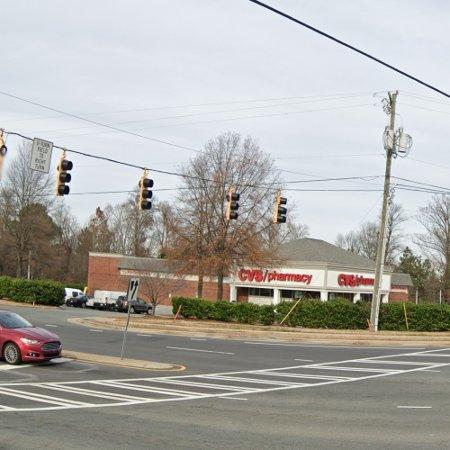crosswalks: (0, 350, 450, 413)
